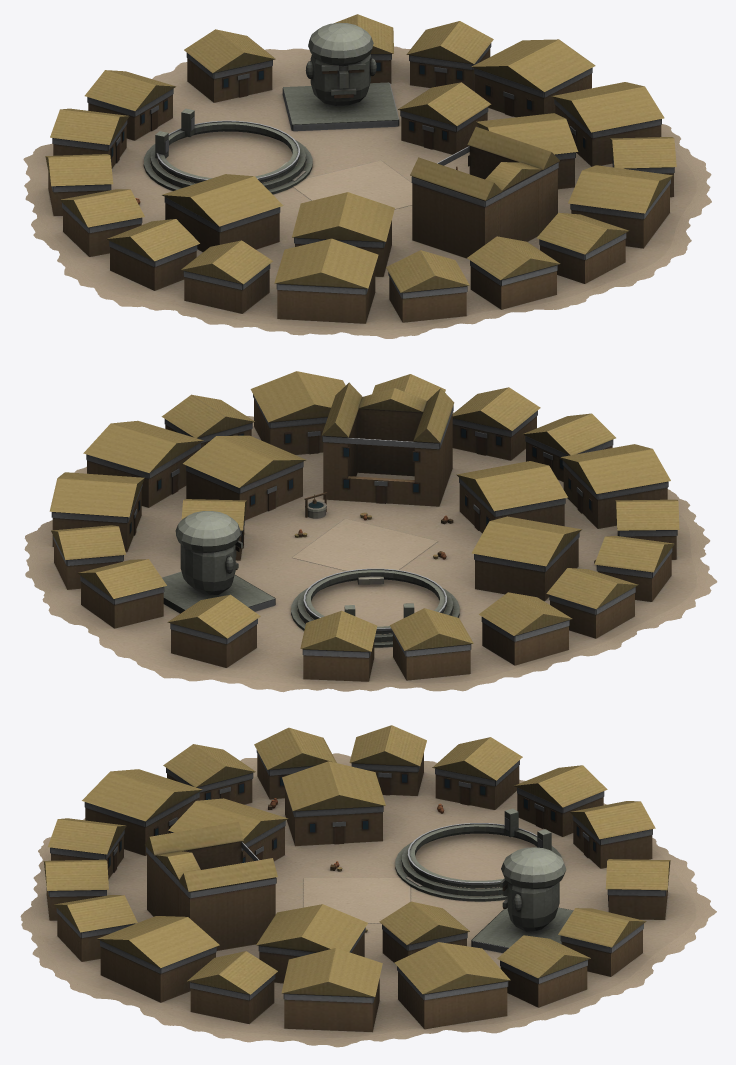
Rendered from bronze-town-big-b-americas.glb.
3 views of the same model, one above another, from view 1: azimuth 30°, elevation 25°; view 2: azimuth 150°, elevation 25°; view 3: azimuth 270°, elevation 25° (orthographic).
Parts seen in each view (by area): view 1: LOD0; view 2: LOD0; view 3: LOD0.
Part boxes in pixels (left/top/right/bottom): LOD0: left=23, top=14, right=711, bottom=338; LOD0: left=24, top=371, right=717, bottom=692; LOD0: left=20, top=725, right=716, bottom=1047.
Size of what is drawn, in the model's own units: 8.01 by 1.05 by 7.99.
3 materials, 3 textured.
